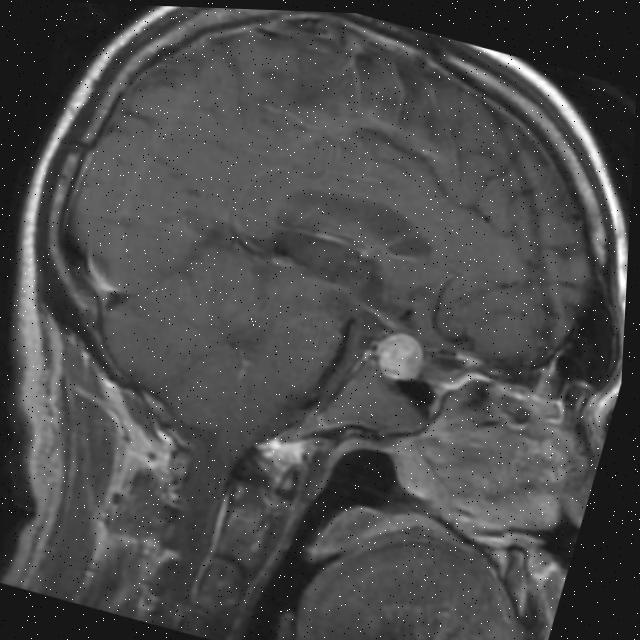Pituitary: (368, 326, 431, 387)
